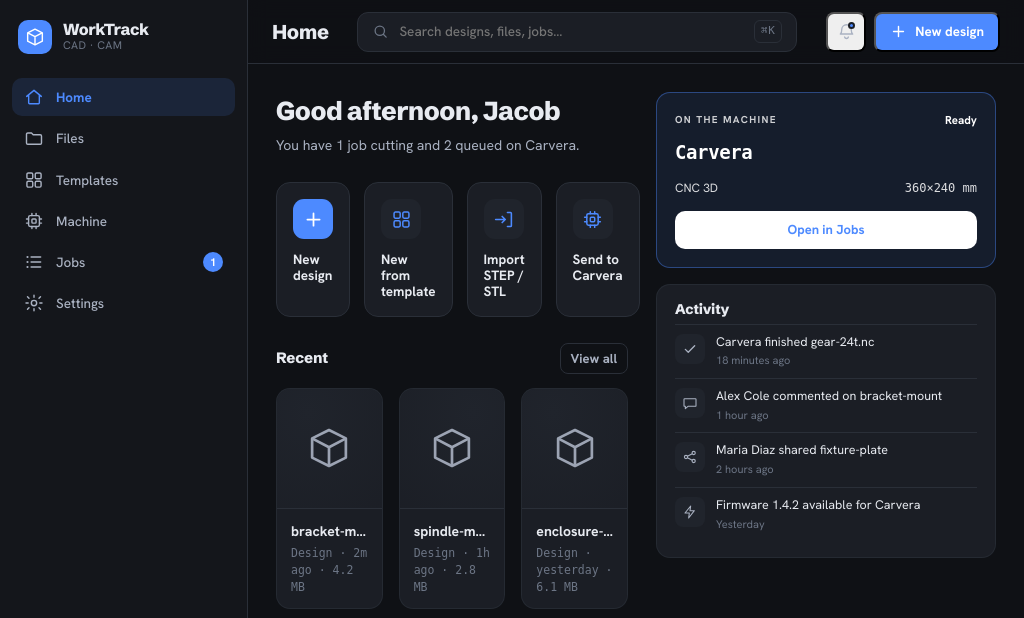
Test: Templates screen › filters cards by category chip
The width and height of the screenshot is (1024, 618).
Click the button "Templates": (124,180) [12,160,235,199]
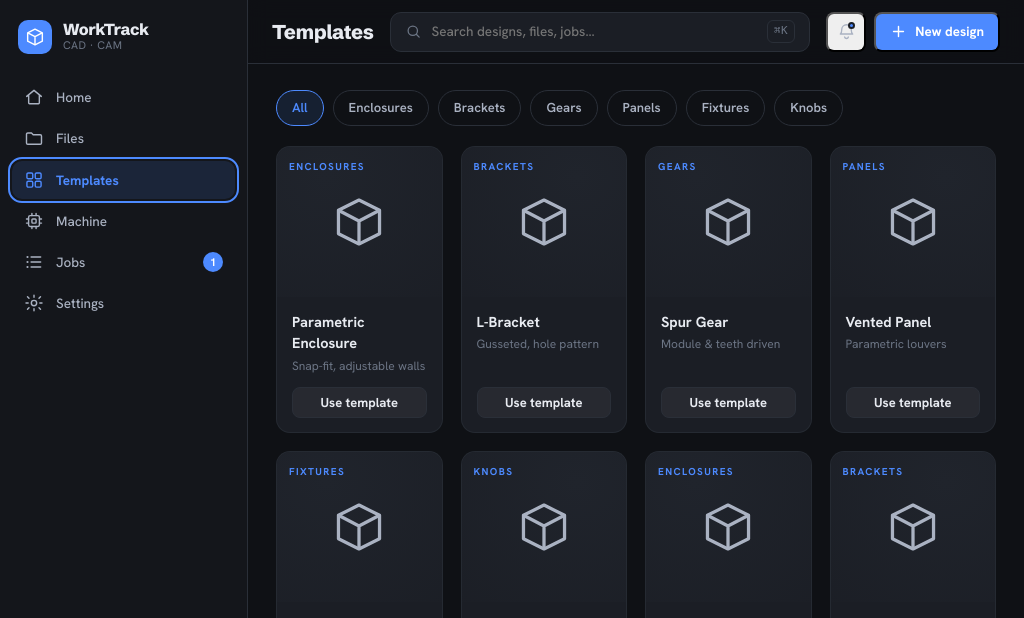
Expected: the text "Spur Gear" is shown, [661,312,728,330]
Click the button "Brackets": (480,108) [438,90,521,126]
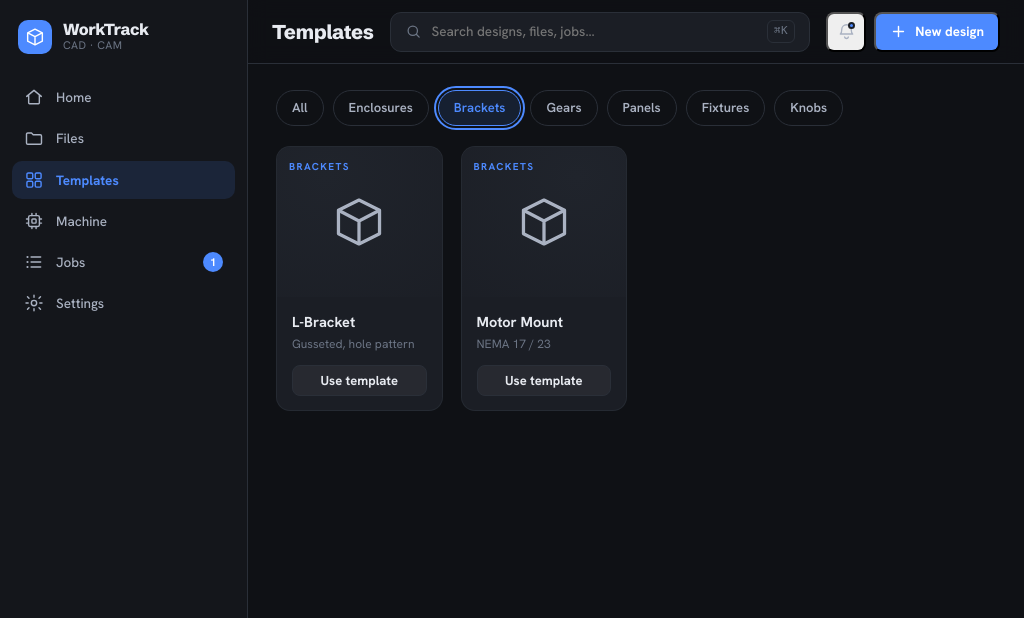
Expected: the text "L-Bracket" is shown, [292,312,355,330]
Expected: the text "Spur Gear" is gone
